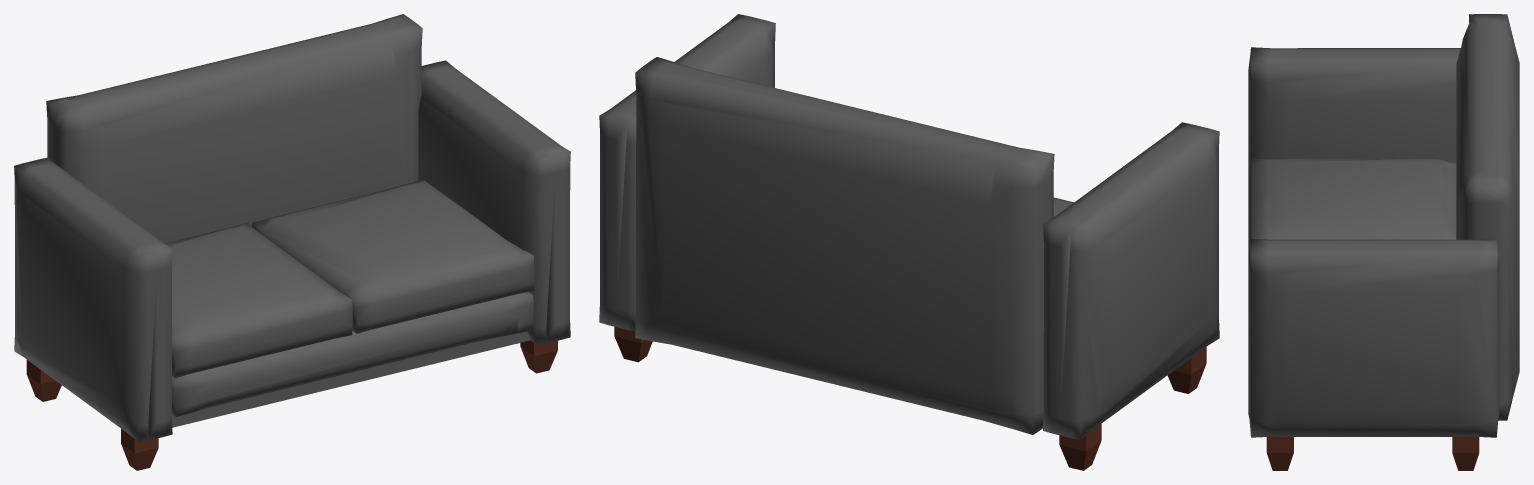
File: Couch.fbx
3 renders of one model, left to right at view 1: azimuth 30°, elevation 25°; view 2: azimuth 150°, elevation 25°; view 3: azimuth 270°, elevation 25°, orthographic. The views are drawn at different scales.
Visible parts, largest first — view 1: Cube.049; view 2: Cube.049; view 3: Cube.049.
Part boxes in pixels (x1=…): Cube.049: x1=14, y1=14, x2=570, y2=470; Cube.049: x1=599, y1=14, x2=1219, y2=470; Cube.049: x1=1248, y1=14, x2=1519, y2=470.
Bounding box in the file's own units: 340 × 199 × 179.
